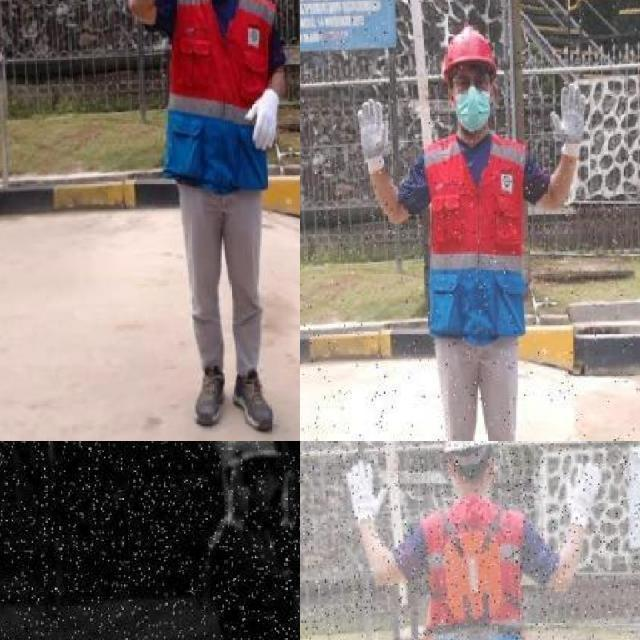apron: (354, 95, 394, 176), (548, 84, 592, 157), (344, 458, 390, 526), (562, 458, 604, 532), (220, 452, 252, 538), (245, 86, 282, 155), (278, 467, 300, 532)
